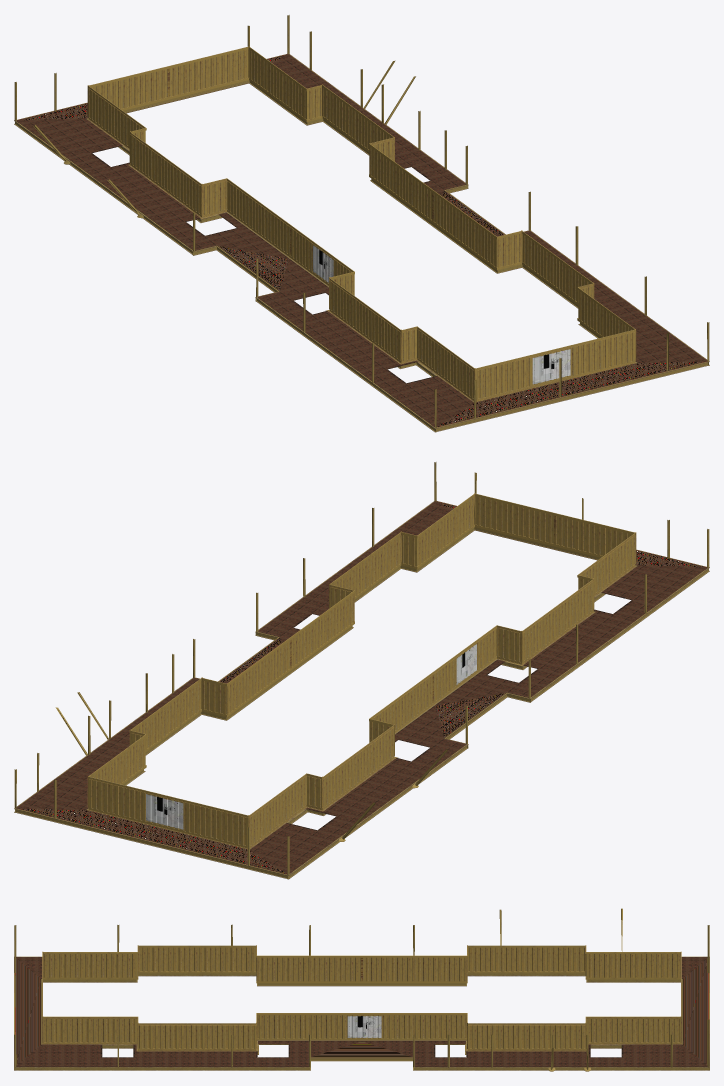
Rendered from level2.glb.
3 views of the same model, one above another, from view 1: azimuth 30°, elevation 25°; view 2: azimuth 150°, elevation 25°; view 3: azimuth 270°, elevation 25° (orthographic). The views are drawn at different scales.
Visible parts, largest first — view 1: level2_LOD0; view 2: level2_LOD0; view 3: level2_LOD0.
Boxes of the visible parts, x1,y1,x2,y2 form: level2_LOD0: (14, 15, 709, 432); level2_LOD0: (14, 462, 709, 879); level2_LOD0: (14, 908, 709, 1071).
Size of the model in its own units: 37.6 by 4.88 by 80.28.
4 materials, 4 textured.
